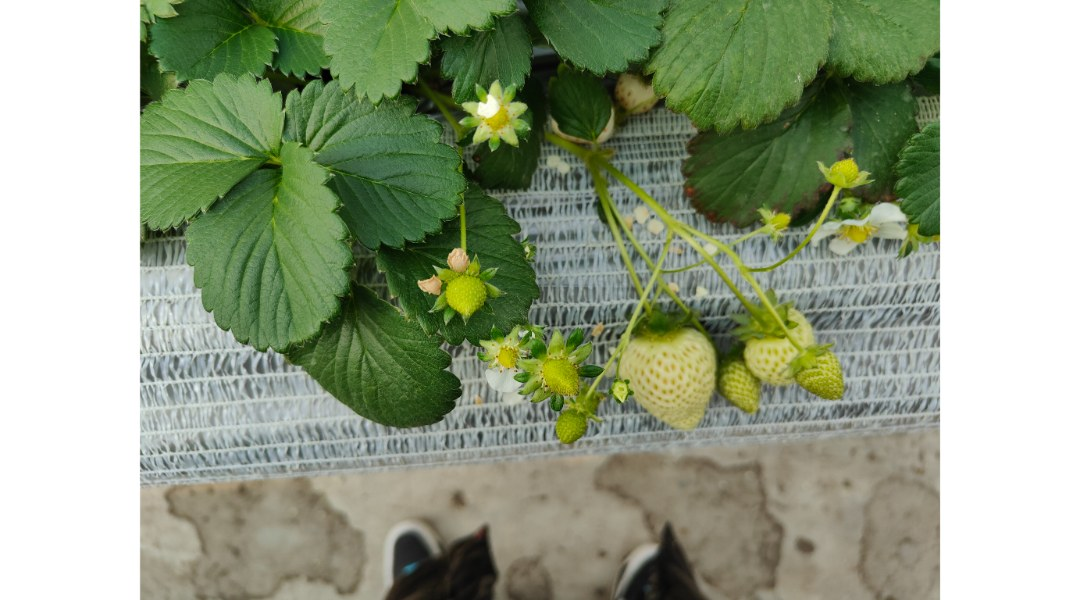berry: (620, 305, 722, 434), (739, 286, 822, 386), (417, 244, 506, 331), (451, 71, 530, 159), (530, 328, 591, 404), (708, 355, 771, 419), (795, 348, 855, 398), (550, 406, 598, 452)
flower: (808, 196, 917, 261), (484, 356, 543, 409)
strain: (612, 169, 693, 230), (615, 257, 645, 290)
